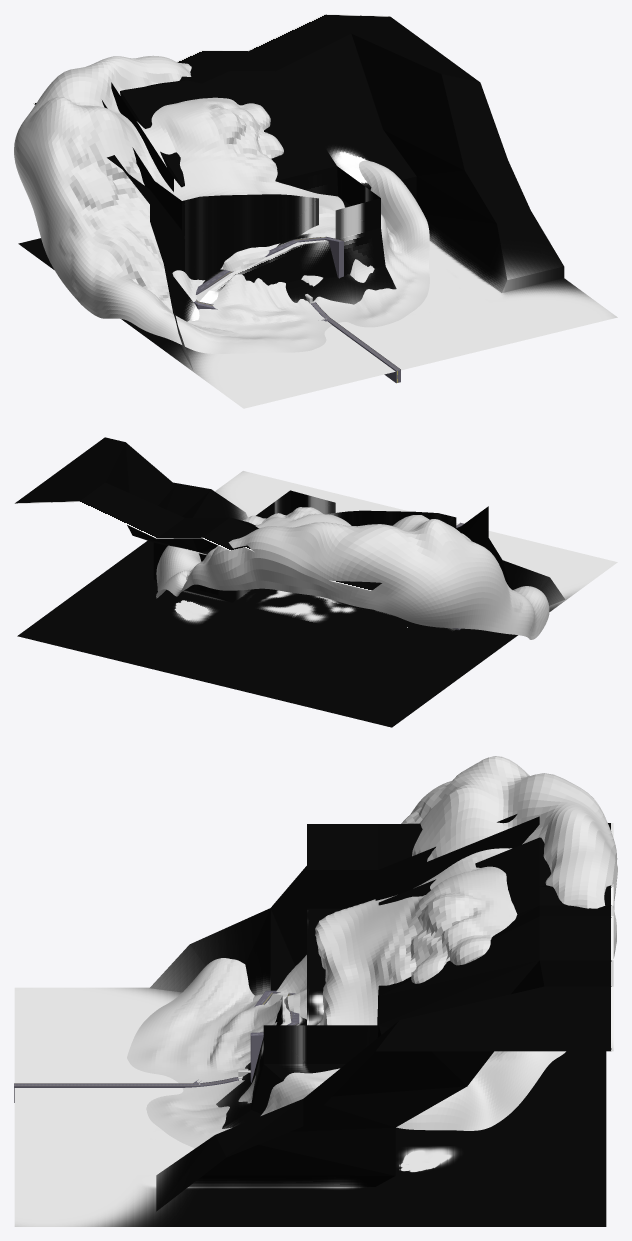
Rendered from neracla_mountain.glb.
The picture shows the model from 3 angles, top to bottom: view 1: azimuth 30°, elevation 25°; view 2: azimuth 150°, elevation 25°; view 3: azimuth 270°, elevation 25°; orthographic projection. The views are drawn at different scales.
Visible parts, largest first — view 1: Mountain, Mountain.001, MntCol, Street1, Highway; view 2: Mountain, Mountain.001, MntCol; view 3: Mountain, Mountain.001, MntCol, Highway, Street1.
Part boxes in pixels (x1,y1,x2,y2): Mountain: (18,14,617,408); Mountain.001: (14,55,429,353); MntCol: (102,82,380,239); Street1: (193,236,343,321); Highway: (311,302,400,383); Mountain: (14,437,617,727); Mountain.001: (156,507,549,639); MntCol: (256,490,456,528); Mountain: (14,823,613,1226); Mountain.001: (127,756,617,1148); MntCol: (263,814,539,1063); Highway: (14,1077,238,1102); Street1: (193,990,299,1083).
Size of the model in its own units: 1068 by 472 by 1017.
4 materials, 2 textured.
